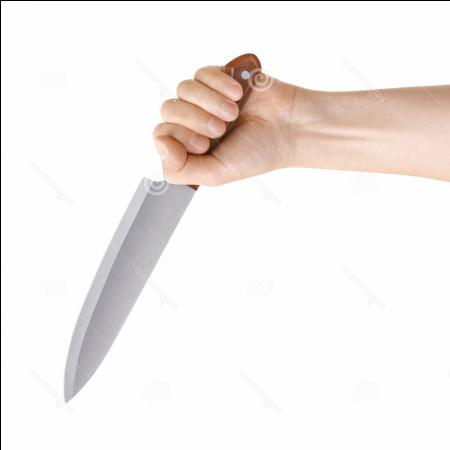long weapon: (56, 107, 241, 408)
